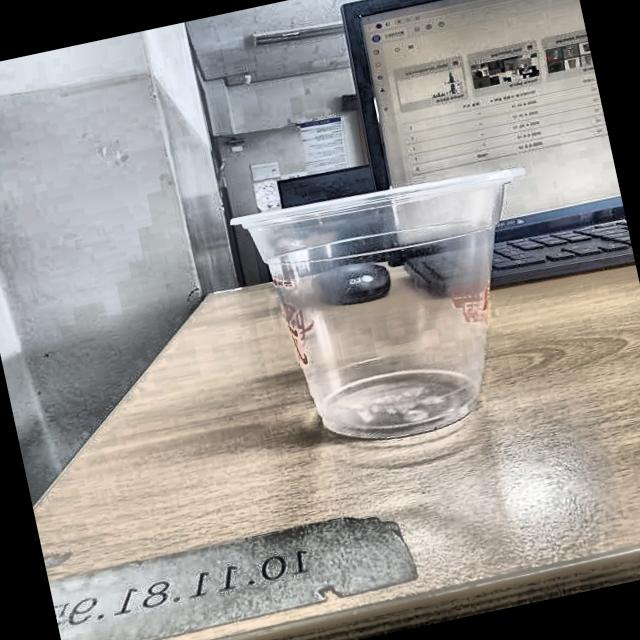plastic cup: (228, 154, 577, 463)
